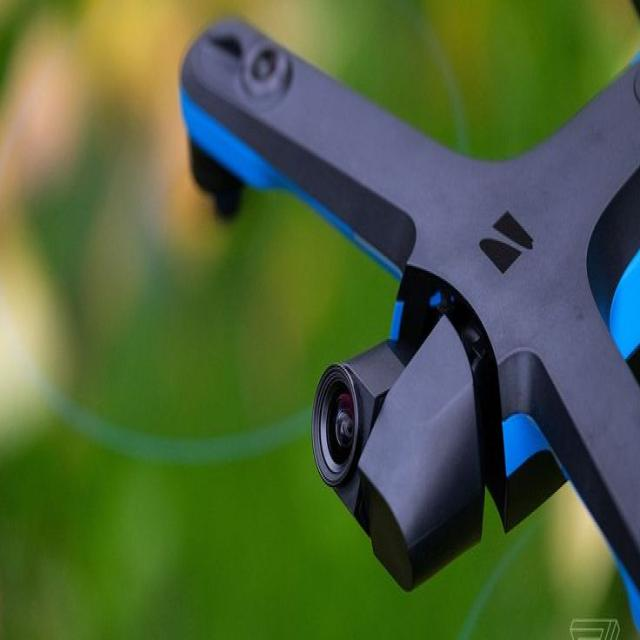drone: (180, 18, 640, 640)
